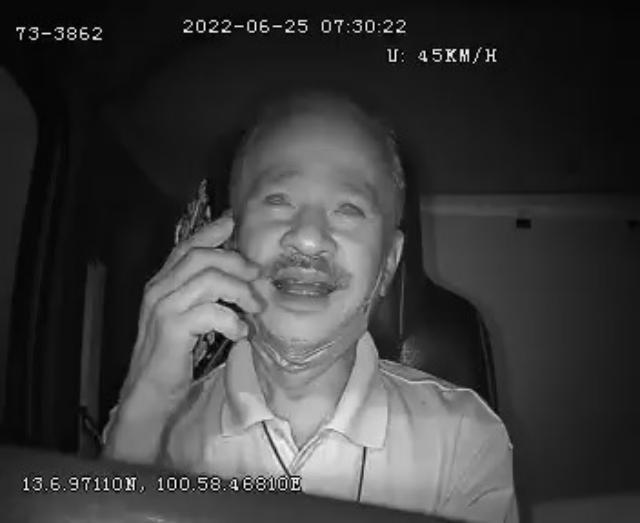PhoneUse: (171, 174, 243, 383)
SafeDriving: (324, 183, 374, 228), (256, 178, 302, 216)
